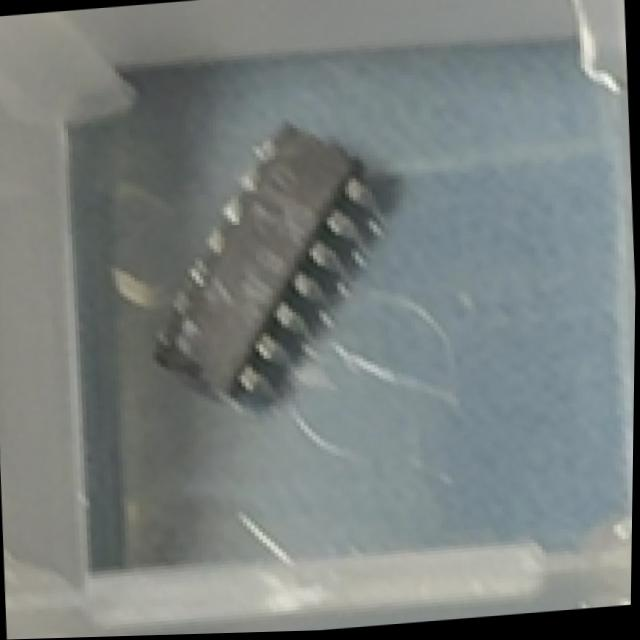IC: (148, 107, 404, 420)
